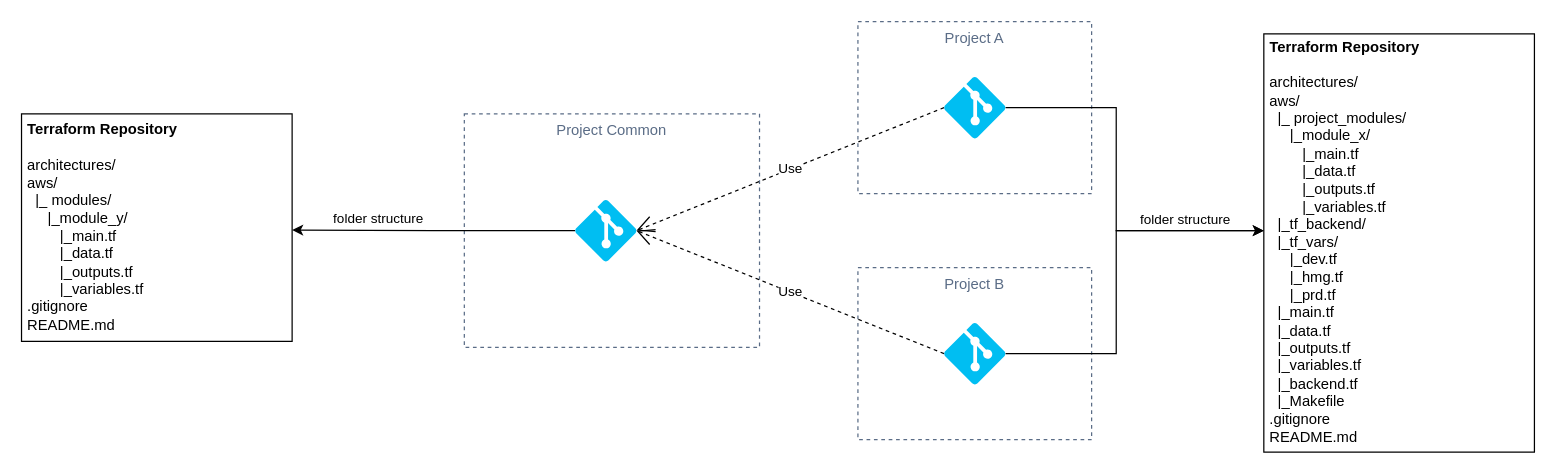
The diagram is 1556 pixels wide and 474 high, and some of its shapes have lost their labels. Each missing label, with the centre of its shape:
"Git Repository TF common modules" belongs at (x=605, y=230).
"Git Repository TF project A" belongs at (x=974, y=107).
"Git Repository TF project B" belongs at (x=974, y=353).
